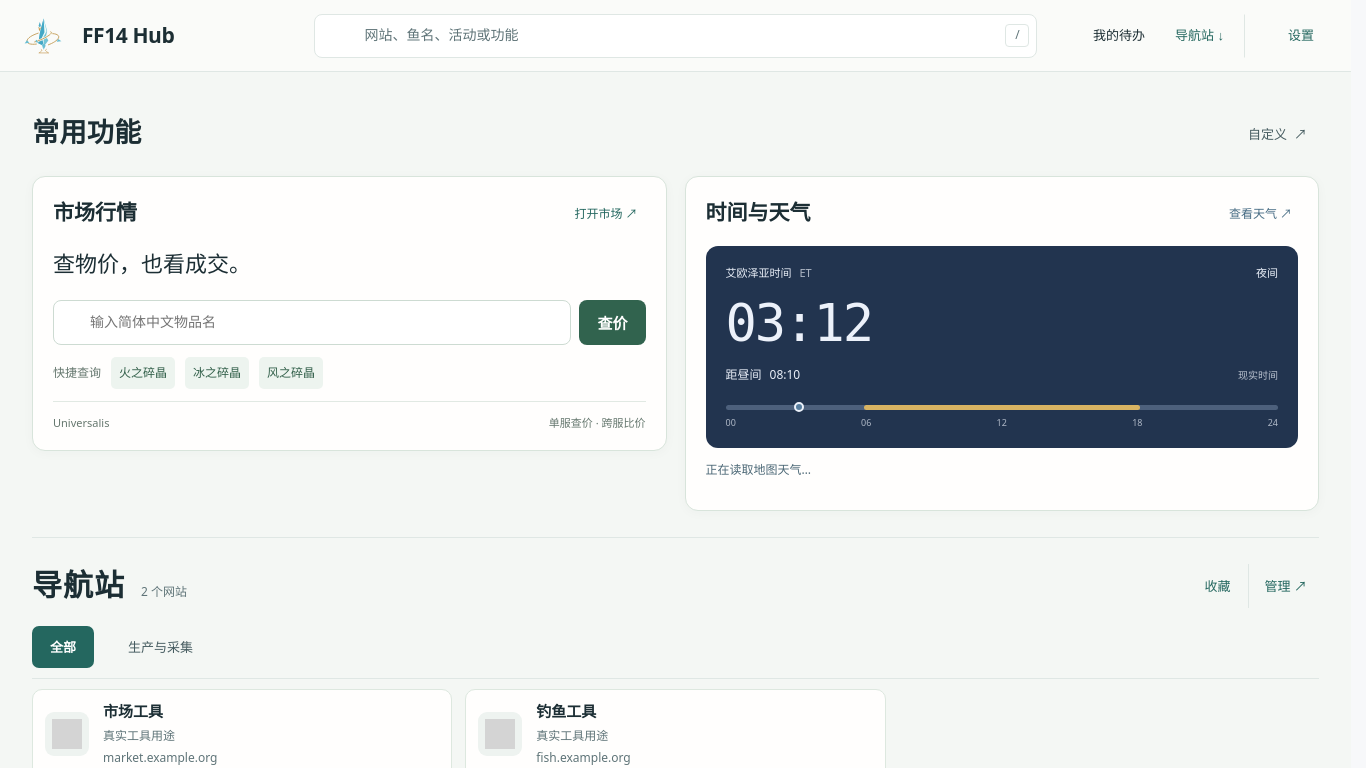
Test: retains directory categories and replaces its duplicate search with unified inline results
The image size is (1366, 768).
Check: the text "市场工具" is shown, box [103, 701, 163, 721]
Click the button "生产与采集" at (160, 647), box [110, 626, 211, 668]
(page scrolled)
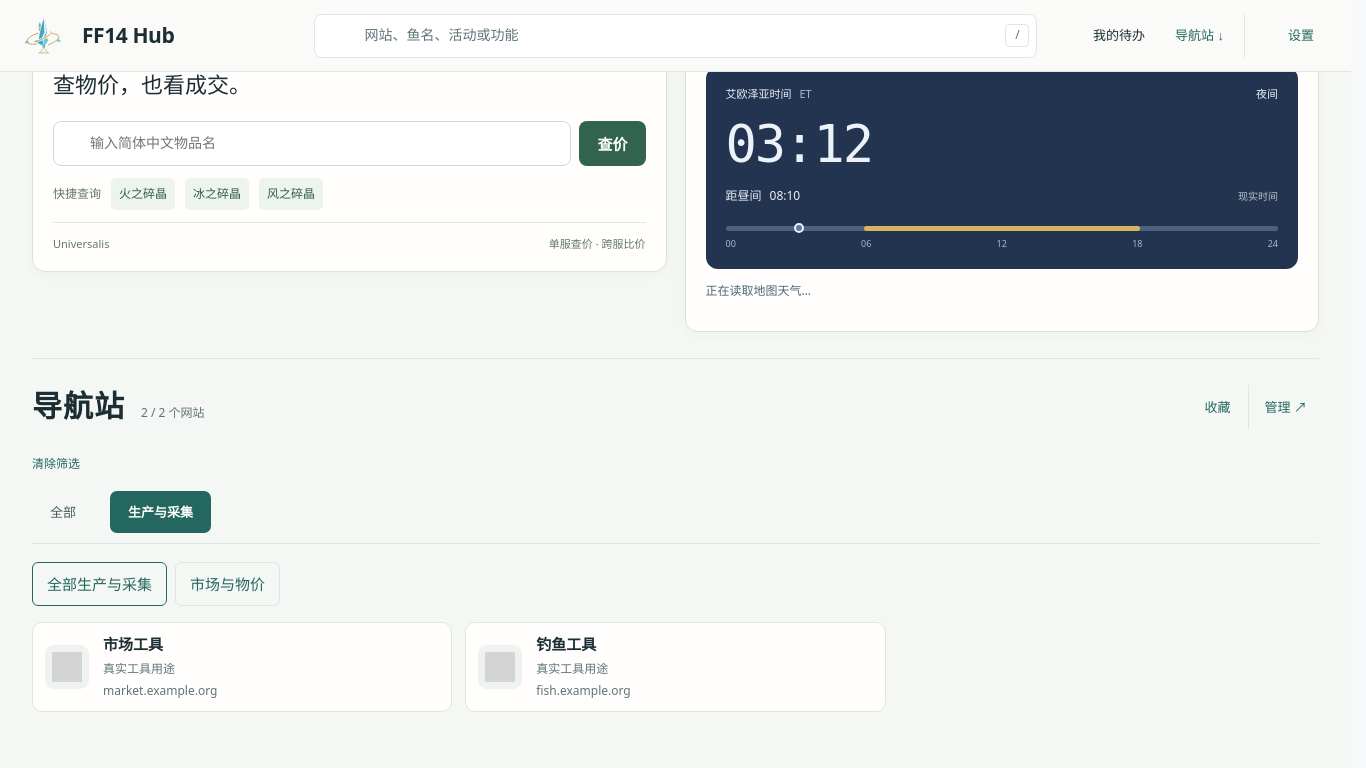
Click the button "市场与物价" at (228, 584), box [175, 562, 280, 606]
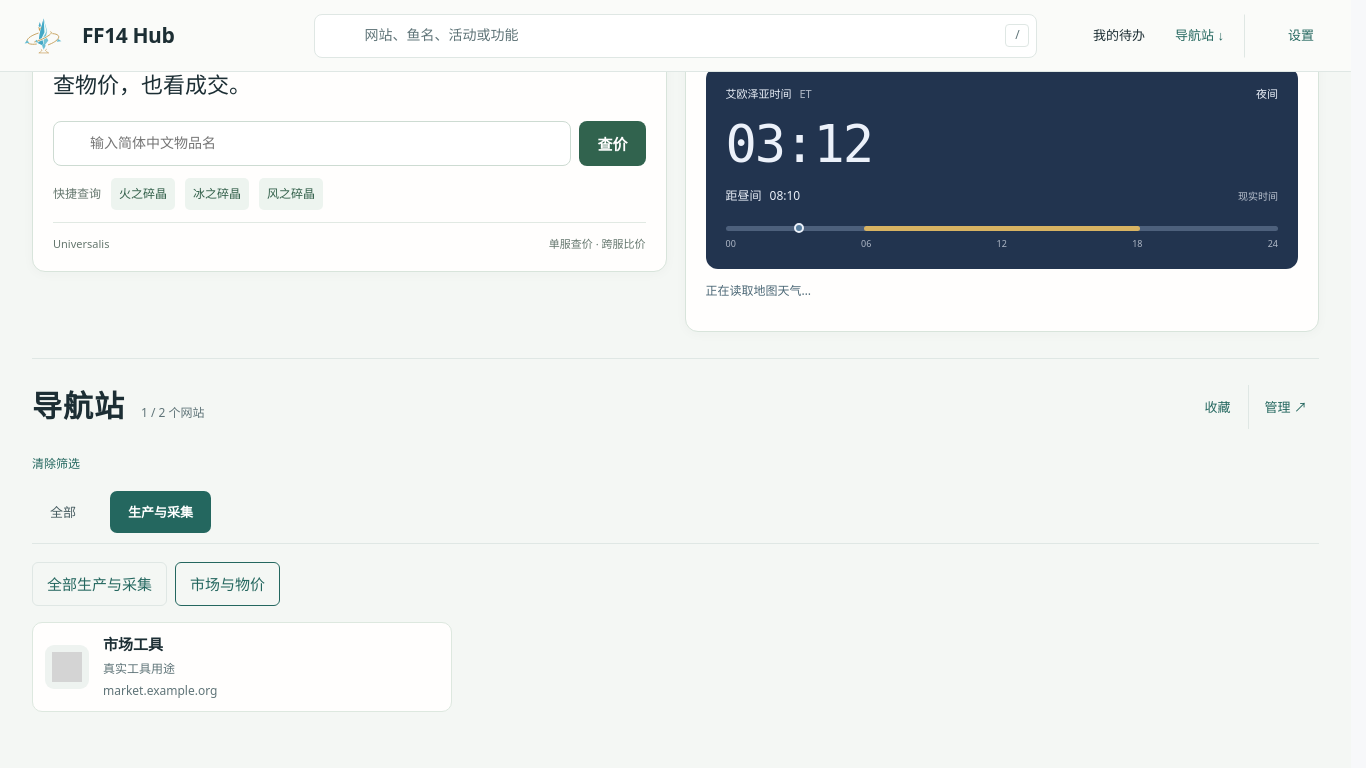
Check: the link "钓鱼工具" is gone
Check: the text "1 / 2 个网站" is shown, box [141, 403, 205, 422]
Type "钓鱼工具" into the search field named "全站搜索关键词" at (682, 36), box [362, 14, 1000, 56]
(page scrolled)
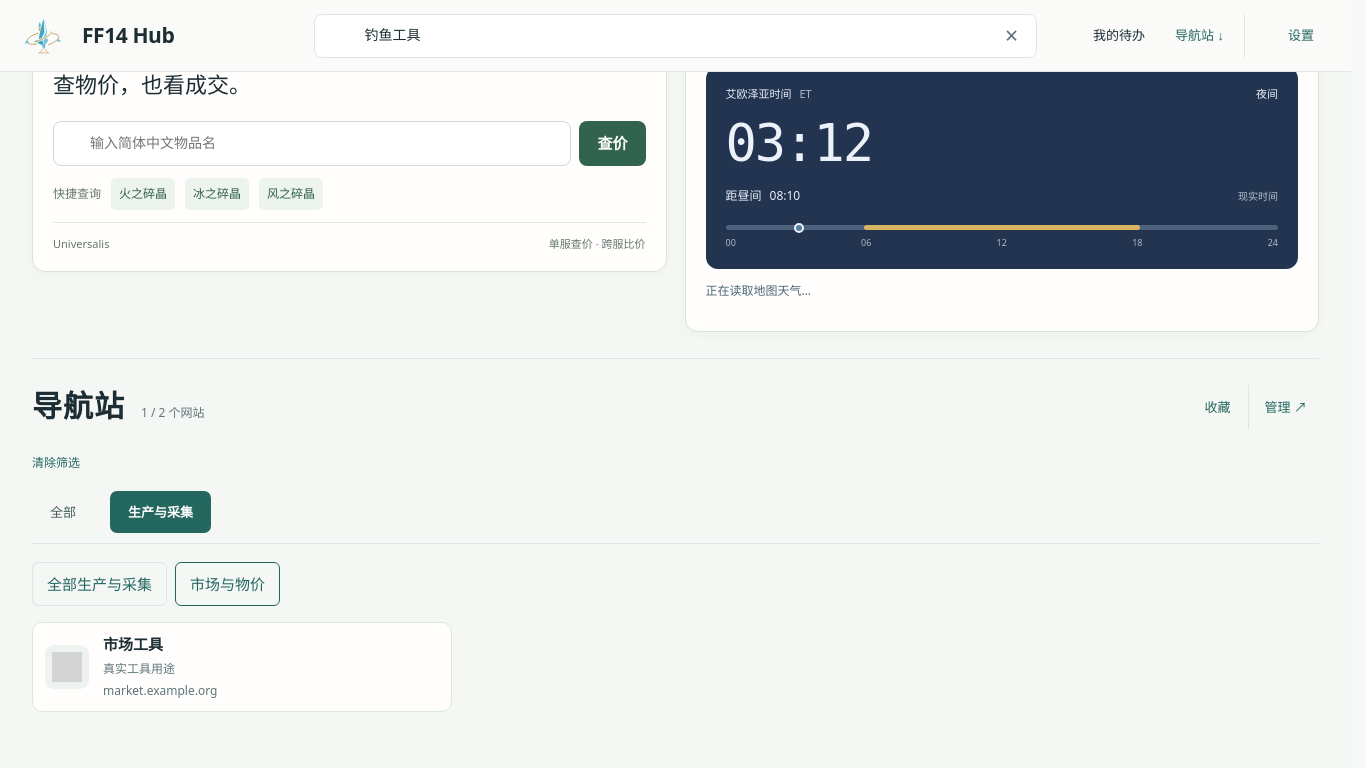
Click the button "清除筛选" at (56, 463), box [32, 447, 80, 479]
(page scrolled)
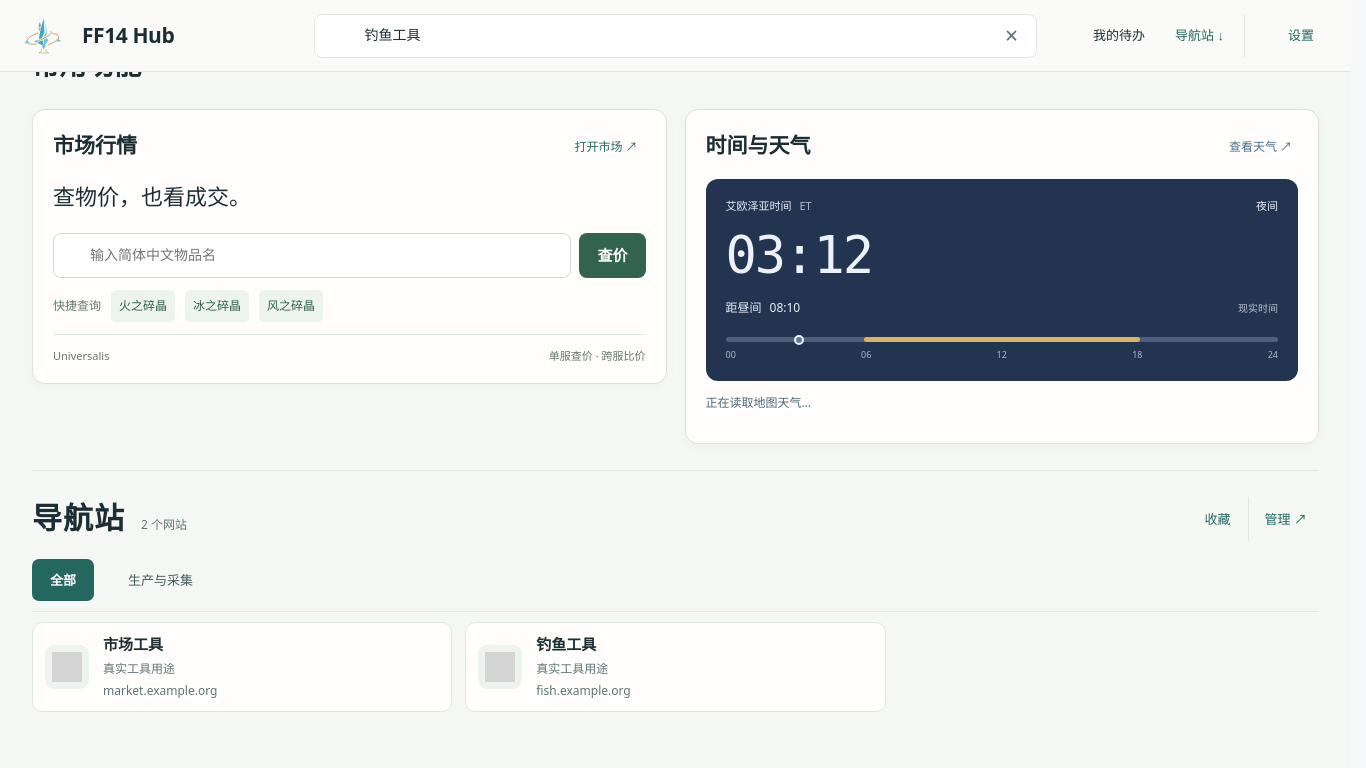
Check: the text "2 个网站" is shown, box [141, 515, 187, 534]
Check: the text "钓鱼工具" is shown, box [536, 634, 596, 654]
